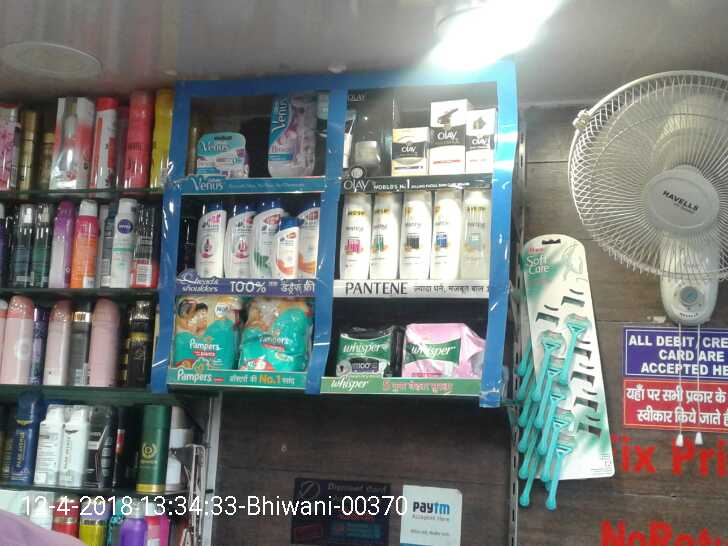venus: (510, 316, 591, 513), (267, 91, 319, 177), (196, 133, 247, 178)
